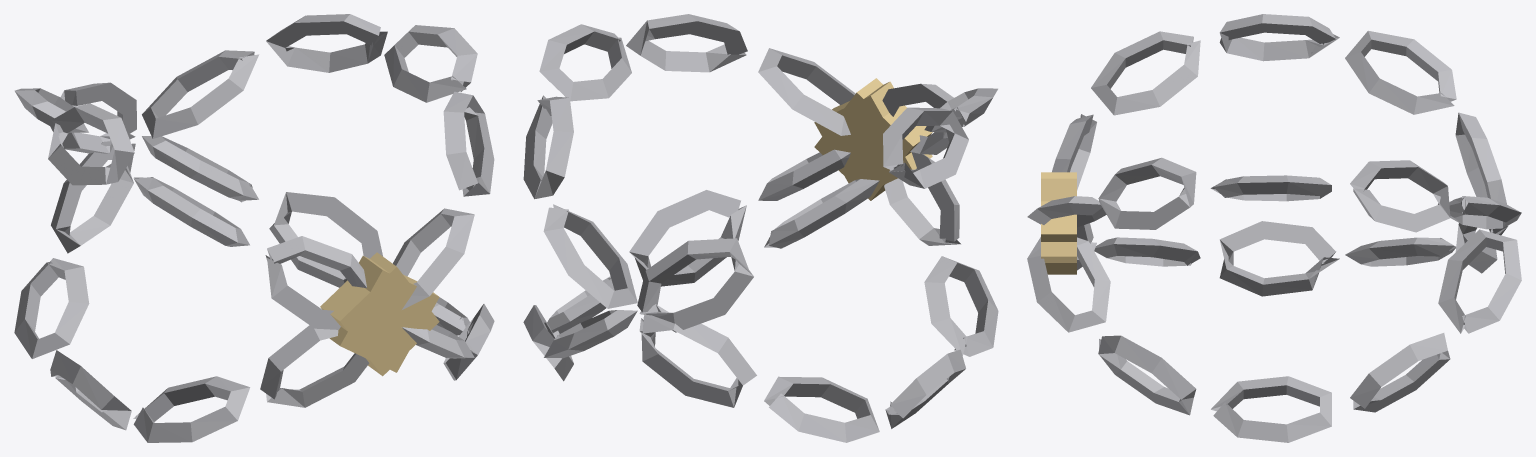
File: ob_chain2.glb
The picture shows the model from 3 angles, left to right: view 1: azimuth 30°, elevation 25°; view 2: azimuth 150°, elevation 25°; view 3: azimuth 270°, elevation 25°; orthographic projection. The views are drawn at different scales.
Bounding box in the file's own units: 1.15 × 0.853 × 1.37.
